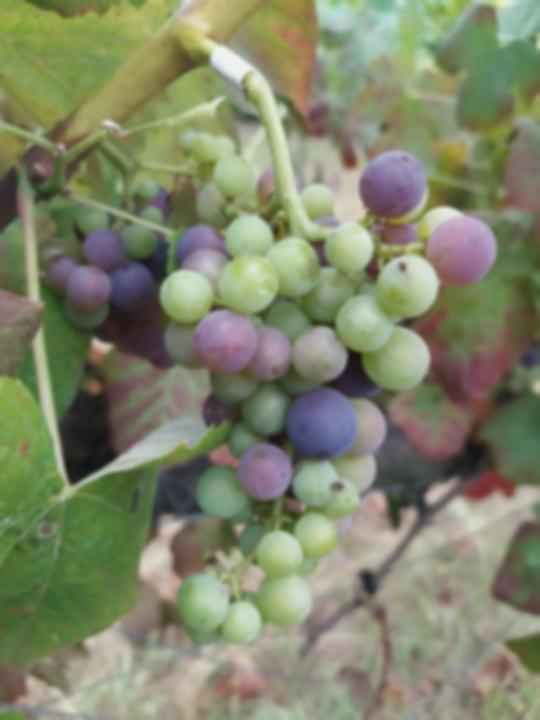grape: (156, 148, 499, 648)
